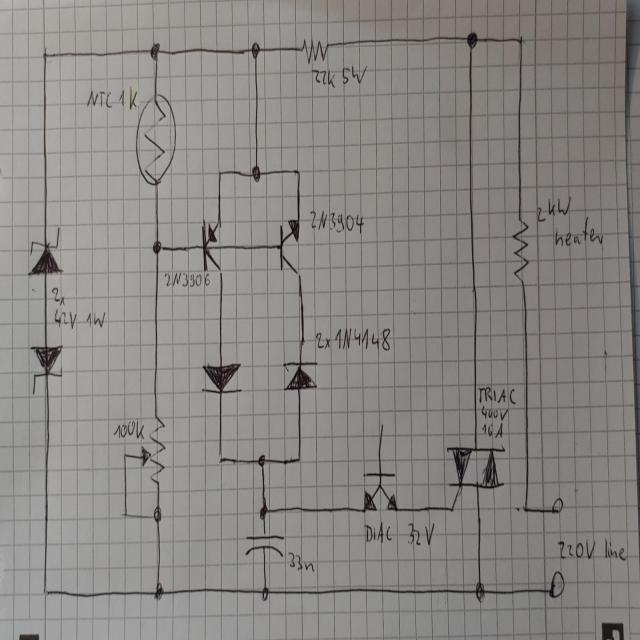capacitor: (243, 532, 285, 558)
diode: (26, 225, 66, 278), (29, 343, 64, 396), (200, 359, 244, 396), (282, 358, 318, 390)
junction: (474, 580, 486, 602), (466, 31, 478, 50), (149, 41, 161, 60), (250, 41, 261, 60), (153, 582, 164, 601), (250, 163, 261, 182), (152, 505, 162, 524), (260, 584, 269, 602), (152, 239, 162, 255), (258, 503, 268, 519), (257, 452, 266, 468), (216, 450, 225, 466), (41, 585, 49, 598), (516, 33, 524, 45), (216, 168, 224, 179), (41, 49, 48, 60), (294, 167, 301, 178), (449, 503, 456, 514), (295, 454, 302, 464), (122, 508, 128, 519), (122, 450, 128, 460), (522, 503, 528, 512)
resistor: (134, 92, 177, 188), (140, 413, 167, 486), (511, 216, 531, 284), (300, 36, 329, 64)
terminal: (546, 568, 566, 600), (550, 495, 564, 515)
text: (556, 538, 626, 564), (554, 214, 604, 248), (334, 324, 392, 353), (309, 208, 365, 235), (536, 194, 572, 223), (164, 268, 209, 288), (112, 416, 146, 441), (477, 384, 517, 404), (405, 521, 435, 546), (363, 519, 393, 544), (340, 63, 370, 86), (287, 550, 316, 573), (85, 88, 114, 110), (311, 64, 337, 88), (52, 307, 77, 331), (118, 84, 138, 111), (600, 620, 624, 640), (480, 404, 509, 420), (84, 310, 106, 330), (481, 421, 504, 438), (314, 329, 332, 350), (51, 286, 65, 306)
transistor: (276, 216, 302, 278), (200, 217, 222, 275)
